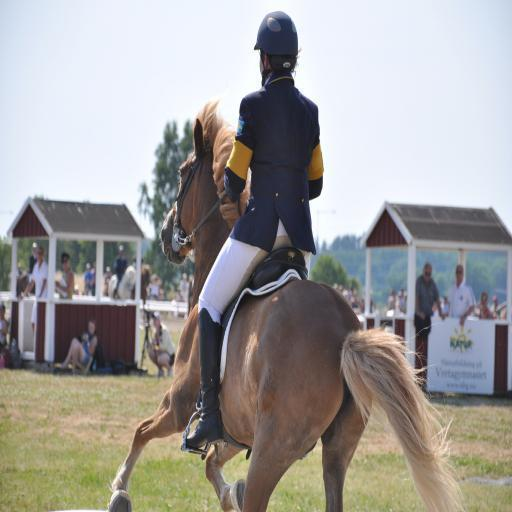horse: (108, 98, 468, 512)
